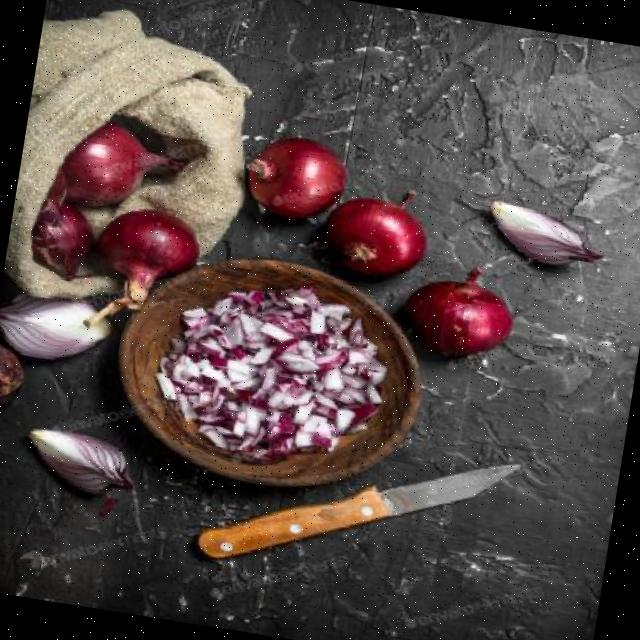Onion: (85, 210, 199, 327), (61, 122, 186, 208), (409, 269, 513, 358), (327, 192, 427, 277), (248, 139, 345, 219)
